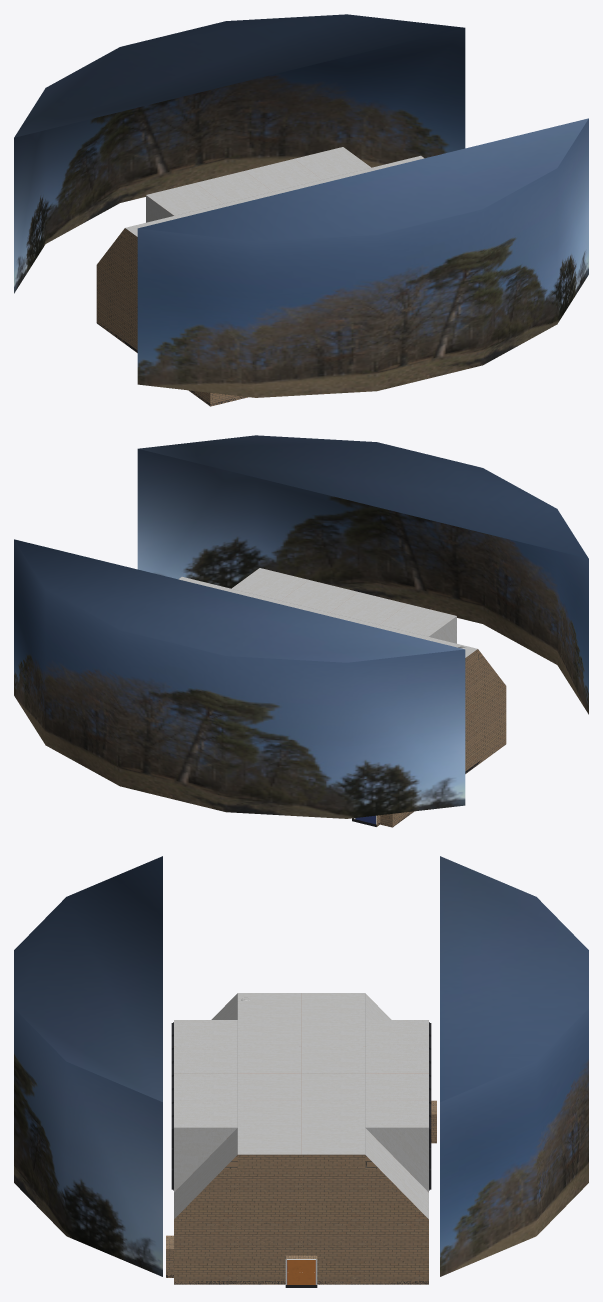
Rendered from Gymnasium.glb.
3 renders of one model, top to bottom at view 1: azimuth 30°, elevation 25°; view 2: azimuth 150°, elevation 25°; view 3: azimuth 270°, elevation 25°, orthographic. The views are drawn at different scales.
Parts seen in each view (by area): view 1: Gym_Exterior.002, Gym_Exterior.001, Gym_Roof.002, Gym_Wall.006; view 2: Gym_Exterior.001, Gym_Exterior.002, Gym_Roof.006, Gym_Wall.006; view 3: Gym_Exterior.001, Gym_Exterior.002, Gym_Wall.007, Gym_Roof.002, Gym_Roof.006, Gym_Roof.003, Gym_Roof.004.
Part boxes in pixels (x1=…): Gym_Exterior.002: x1=137, y1=118, x2=588, y2=397; Gym_Exterior.001: x1=14, y1=14, x2=465, y2=293; Gym_Roof.002: x1=125, y1=147, x2=424, y2=236; Gym_Wall.006: x1=96, y1=228, x2=210, y2=405; Gym_Exterior.001: x1=14, y1=539, x2=465, y2=818; Gym_Exterior.002: x1=137, y1=435, x2=588, y2=714; Gym_Roof.006: x1=178, y1=568, x2=477, y2=657; Gym_Wall.006: x1=392, y1=649, x2=506, y2=826; Gym_Exterior.001: x1=440, y1=856, x2=588, y2=1276; Gym_Exterior.002: x1=14, y1=856, x2=162, y2=1276; Gym_Wall.007: x1=174, y1=1154, x2=428, y2=1284; Gym_Roof.002: x1=301, y1=993, x2=428, y2=1154; Gym_Roof.006: x1=174, y1=993, x2=301, y2=1154; Gym_Roof.003: x1=365, y1=993, x2=431, y2=1218; Gym_Roof.004: x1=171, y1=993, x2=237, y2=1218.
Size of what is drawn, in the model's own units: 366 by 156 by 361.
Materials: 4 (1 with a texture image).
